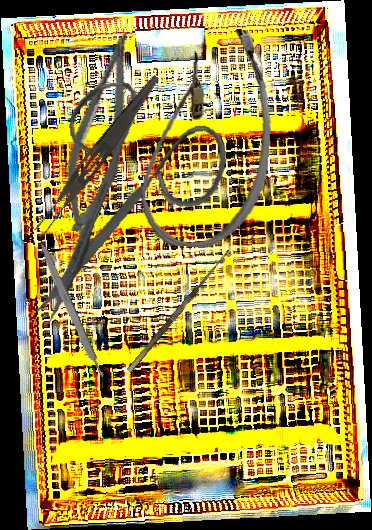Cannula: (137, 22, 280, 253)
Dressing Forceps: (30, 69, 164, 240)
Hook Surgical: (120, 243, 232, 374)
Iris Scissors: (7, 70, 244, 326)
Micro Scissor: (56, 26, 143, 237)
Scalpel Handle: (34, 236, 106, 382)
